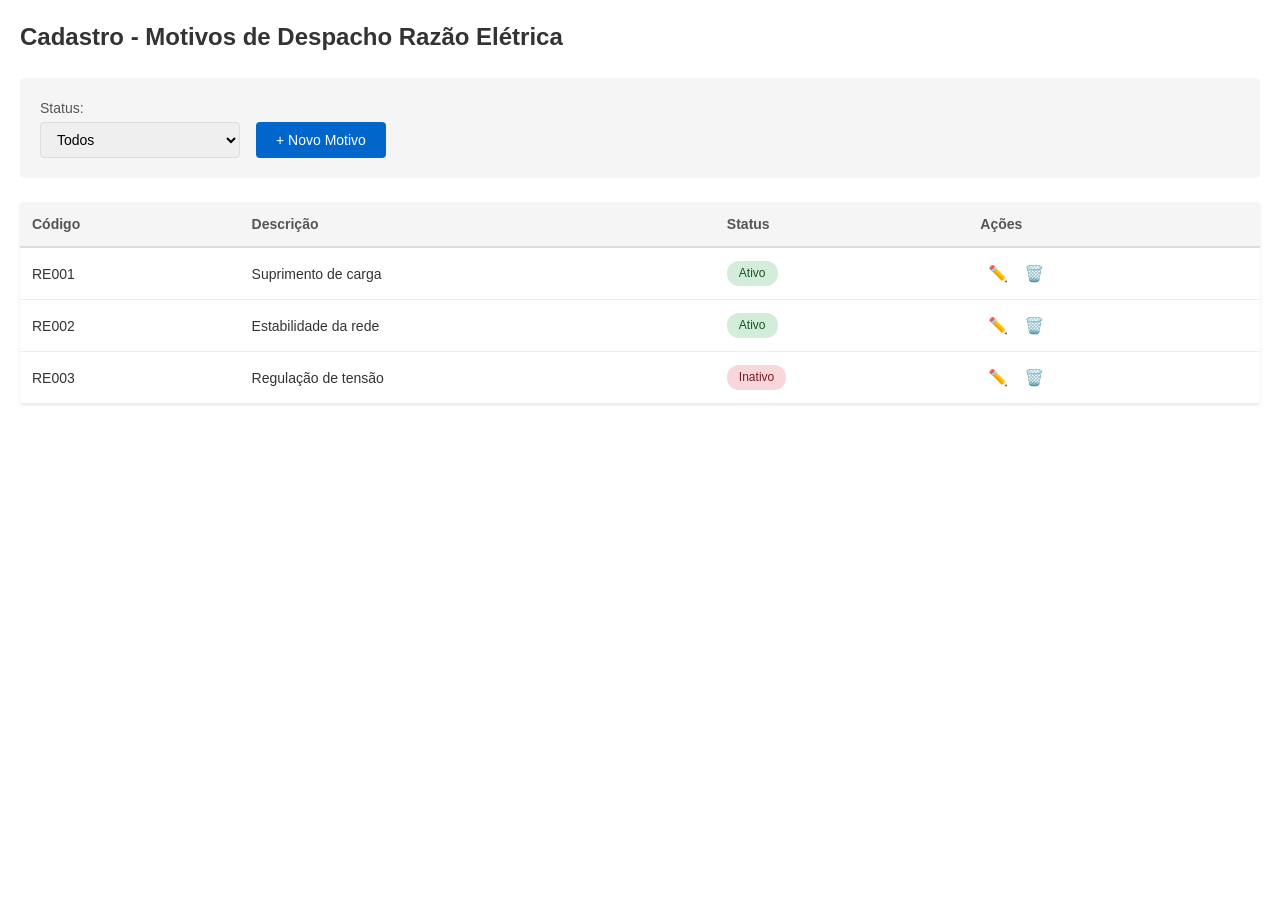
Scenario: ElectricalDispatchReason Component › Diálogo de Criação/Edição › deve exibir erro ao salvar sem campos obrigatórios
Click the button with test id "btn-novo-motivo" at [321, 140], box [256,122,386,158]
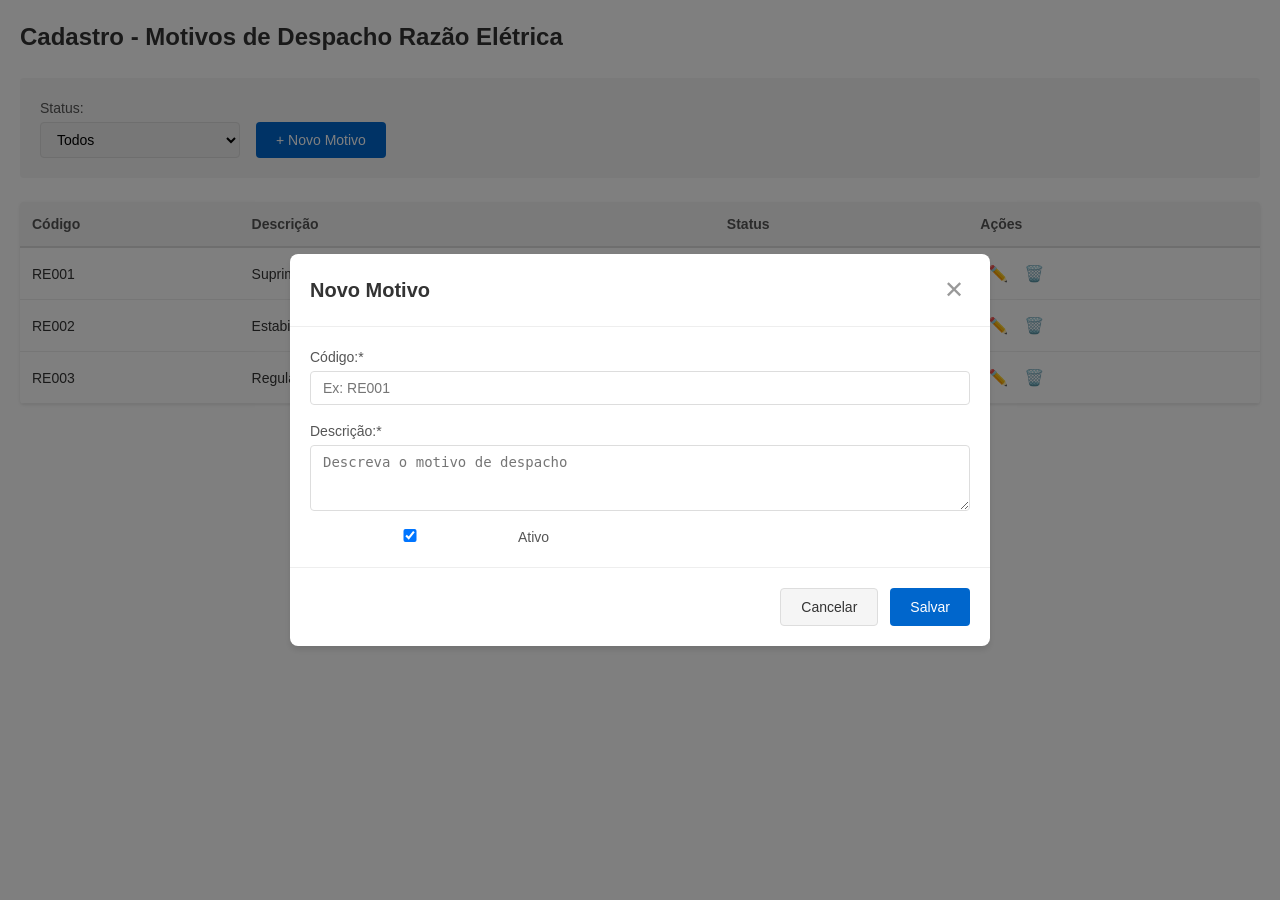
Result: the element with test id "dialog-form" is shown
Click the button with test id "btn-save" at [930, 607], box [890,588,970,626]
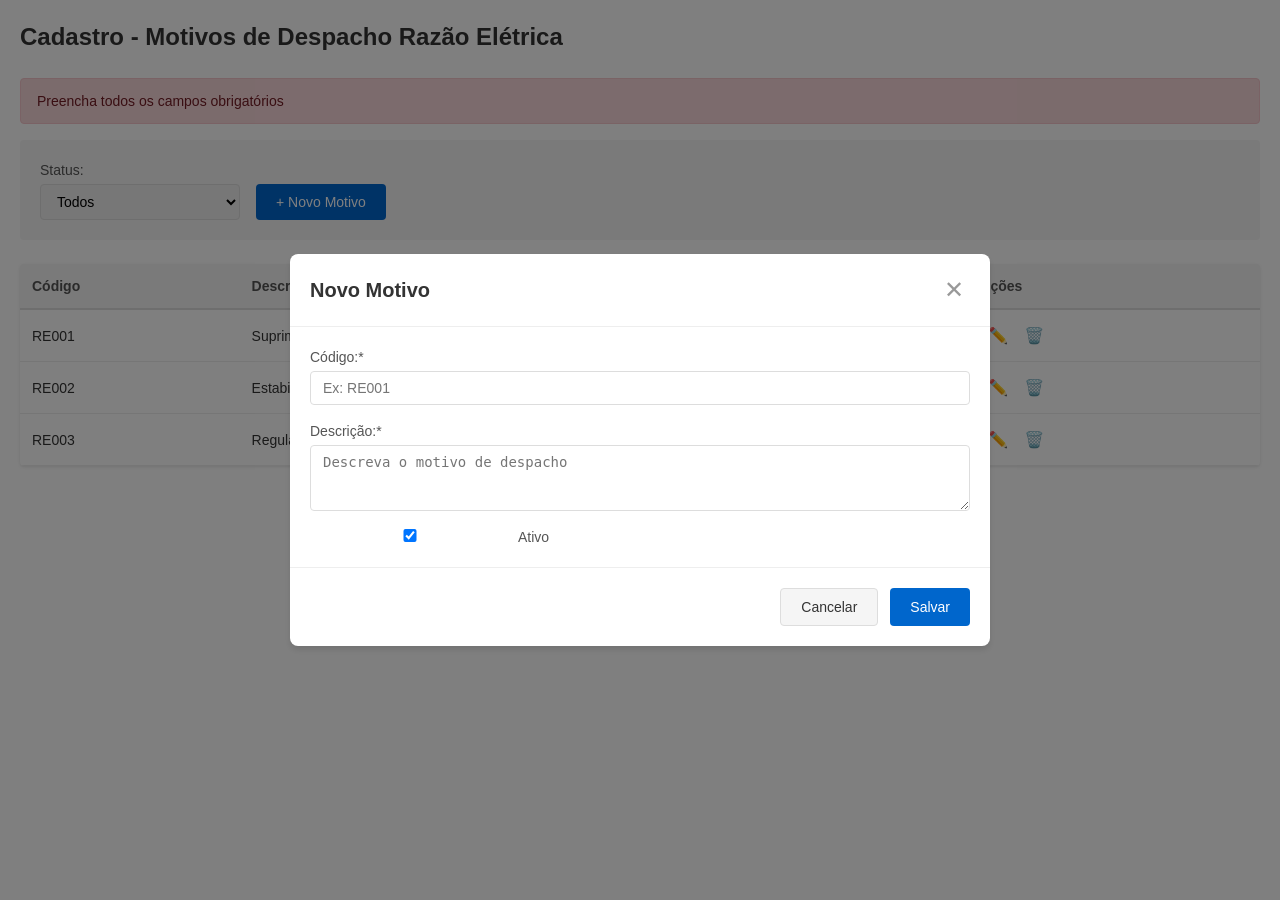
Result: the text "Preencha todos os campos obrigatórios" is shown at [20,78,1260,124]
